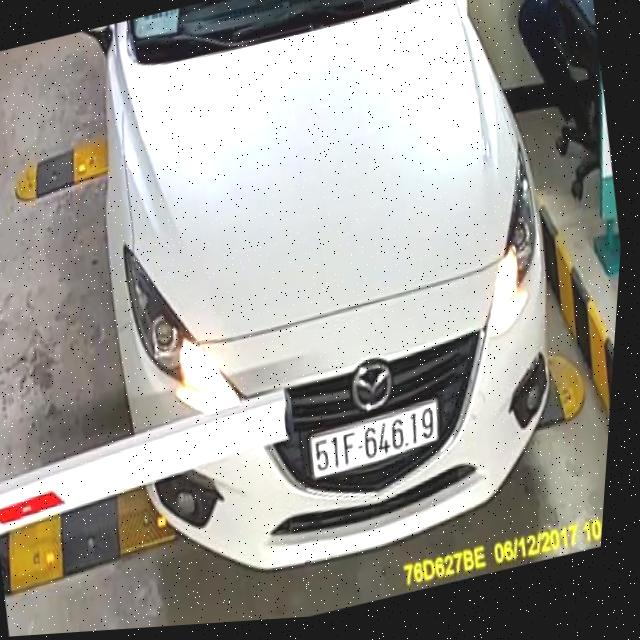car: (32, 0, 616, 615)
plate: (300, 397, 449, 479)
